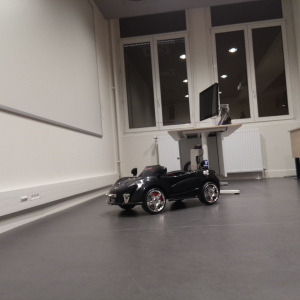big: (103, 161, 224, 216)
